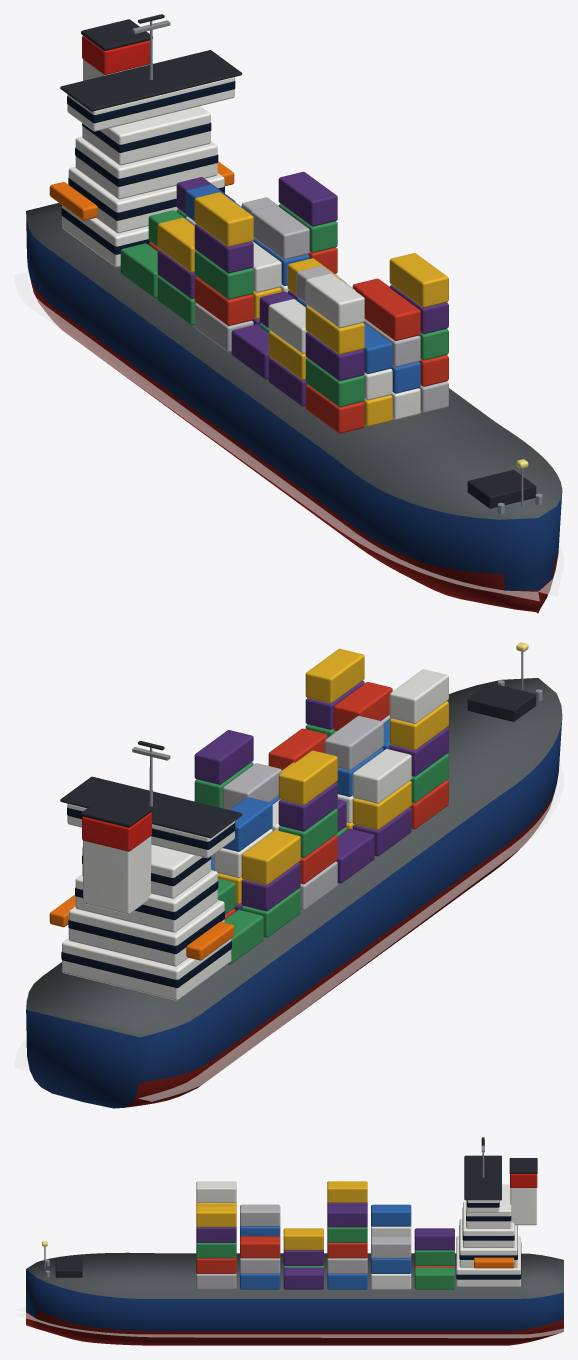
Rendered from ship_container.glb.
The picture shows the model from 3 angles, top to bottom: view 1: azimuth 30°, elevation 25°; view 2: azimuth 150°, elevation 25°; view 3: azimuth 270°, elevation 25°; orthographic projection. The views are drawn at different scales.
Parts seen in each view (by area): view 1: Rumpf, Teil_Aufbau_Weiss, Teil_Container_6, Teil_Container_2, Teil_Dunkel, Teil_Container_3, Teil_Container_0, Teil_Container_5, Teil_Container_4, Foam, Teil_Fenster, Teil_Container_1 (+3 smaller); view 2: Rumpf, Teil_Aufbau_Weiss, Teil_Container_6, Teil_Container_2, Teil_Dunkel, Teil_Container_3, Teil_Container_5, Foam, Teil_Container_0, Teil_Container_4, Teil_Fenster, Teil_Container_1 (+3 smaller); view 3: Rumpf, Teil_Aufbau_Weiss, Teil_Container_6, Teil_Container_4, Teil_Container_1, Teil_Container_3, Teil_Container_2, Teil_Dunkel, Teil_Container_0, Foam, Teil_Container_5, Teil_Fenster (+2 smaller).
Boxes of the visible parts, box(x1,y1,x2,y2) form: Rumpf: box(26, 203, 562, 613); Teil_Aufbau_Weiss: box(62, 59, 234, 267); Teil_Container_6: box(157, 171, 448, 406); Teil_Container_2: box(157, 192, 448, 426); Teil_Dunkel: box(60, 14, 536, 508); Teil_Container_3: box(120, 203, 448, 407); Teil_Container_0: box(148, 242, 448, 433); Teil_Container_5: box(185, 216, 420, 419); Teil_Container_4: box(194, 197, 448, 412); Foam: box(14, 272, 563, 600); Teil_Fenster: box(61, 80, 235, 254); Teil_Container_1: box(185, 184, 420, 393); Rumpf: box(26, 678, 562, 1108); Teil_Aufbau_Weiss: box(62, 803, 234, 1000); Teil_Container_6: box(194, 681, 448, 911); Teil_Container_2: box(217, 648, 448, 904); Teil_Dunkel: box(60, 683, 536, 838); Teil_Container_3: box(194, 724, 448, 964); Teil_Container_5: box(213, 669, 448, 878); Foam: box(14, 759, 563, 1101); Teil_Container_0: box(224, 682, 448, 919); Teil_Container_4: box(222, 715, 390, 910); Teil_Fenster: box(61, 807, 235, 988); Teil_Container_1: box(211, 718, 391, 870); Rumpf: box(26, 1252, 563, 1345); Teil_Aufbau_Weiss: box(456, 1184, 536, 1286); Teil_Container_6: box(196, 1202, 454, 1289); Teil_Container_4: box(196, 1204, 411, 1289); Teil_Container_1: box(240, 1204, 411, 1289); Teil_Container_3: box(196, 1226, 454, 1289); Teil_Container_2: box(196, 1181, 367, 1250); Teil_Dunkel: box(55, 1137, 537, 1277); Teil_Container_0: box(196, 1236, 454, 1273); Foam: box(15, 1306, 563, 1338); Teil_Container_5: box(196, 1181, 411, 1289); Teil_Fenster: box(456, 1200, 521, 1279).
Bounding box in the file's own units: 18.24 × 31.45 × 81.8.
